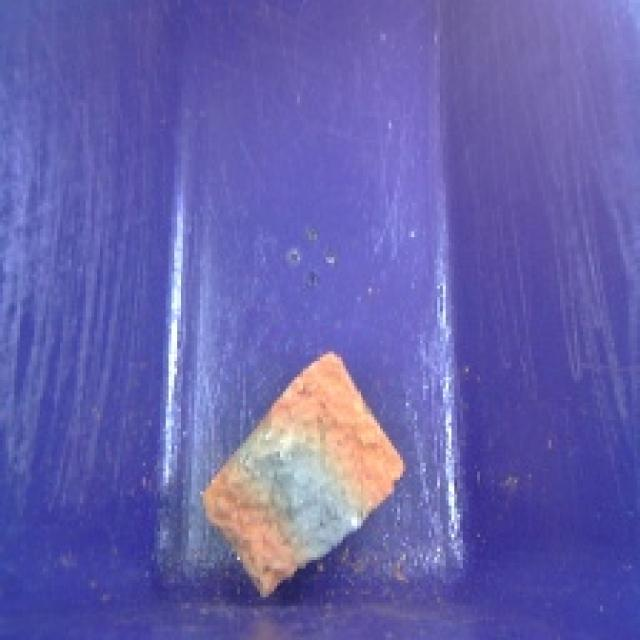brick: (194, 338, 412, 603)
